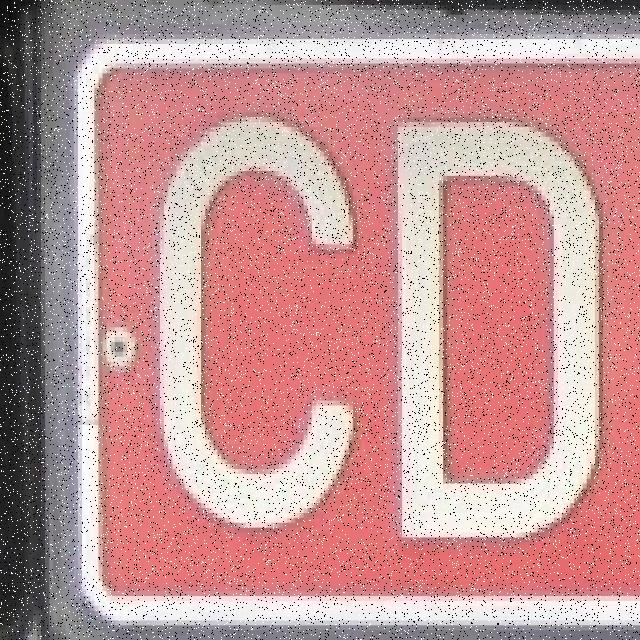licenseplate: (64, 19, 640, 637)
